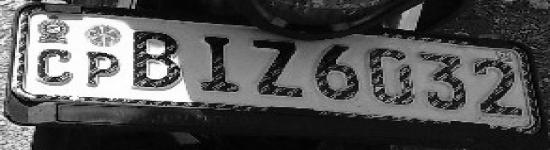0: (362, 42, 418, 112)
2: (469, 56, 525, 119)
3: (416, 46, 472, 116)
6: (312, 40, 366, 107)
B: (126, 31, 187, 93)
C: (34, 46, 77, 89)
I: (188, 28, 241, 96)
P: (82, 47, 122, 92)
Z: (245, 34, 308, 102)
